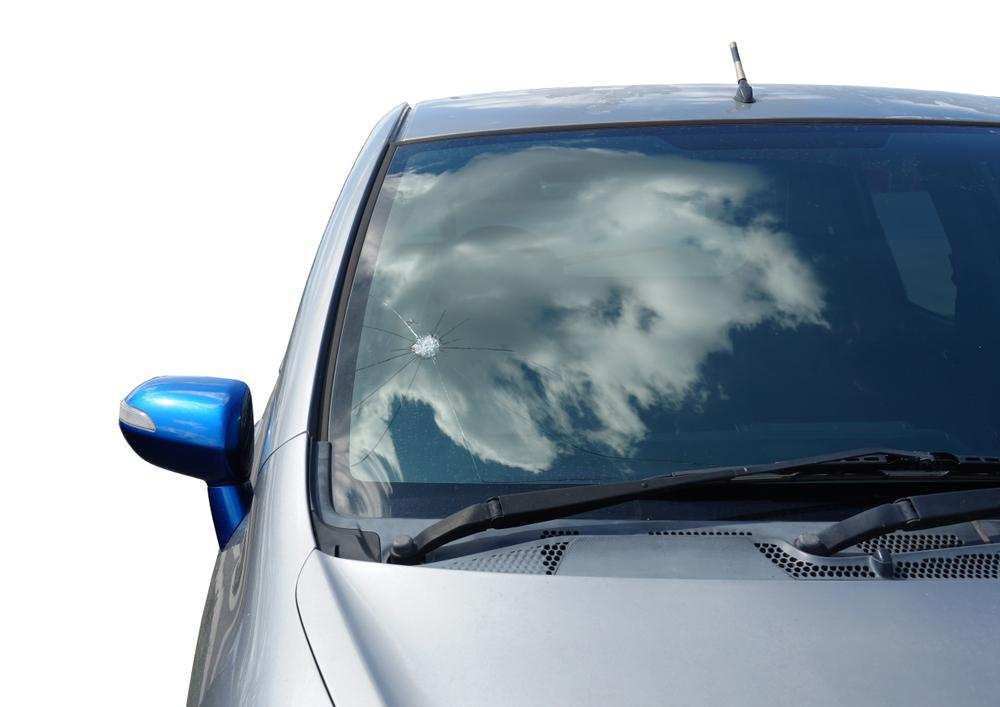glass shatter: (327, 122, 1000, 519)
